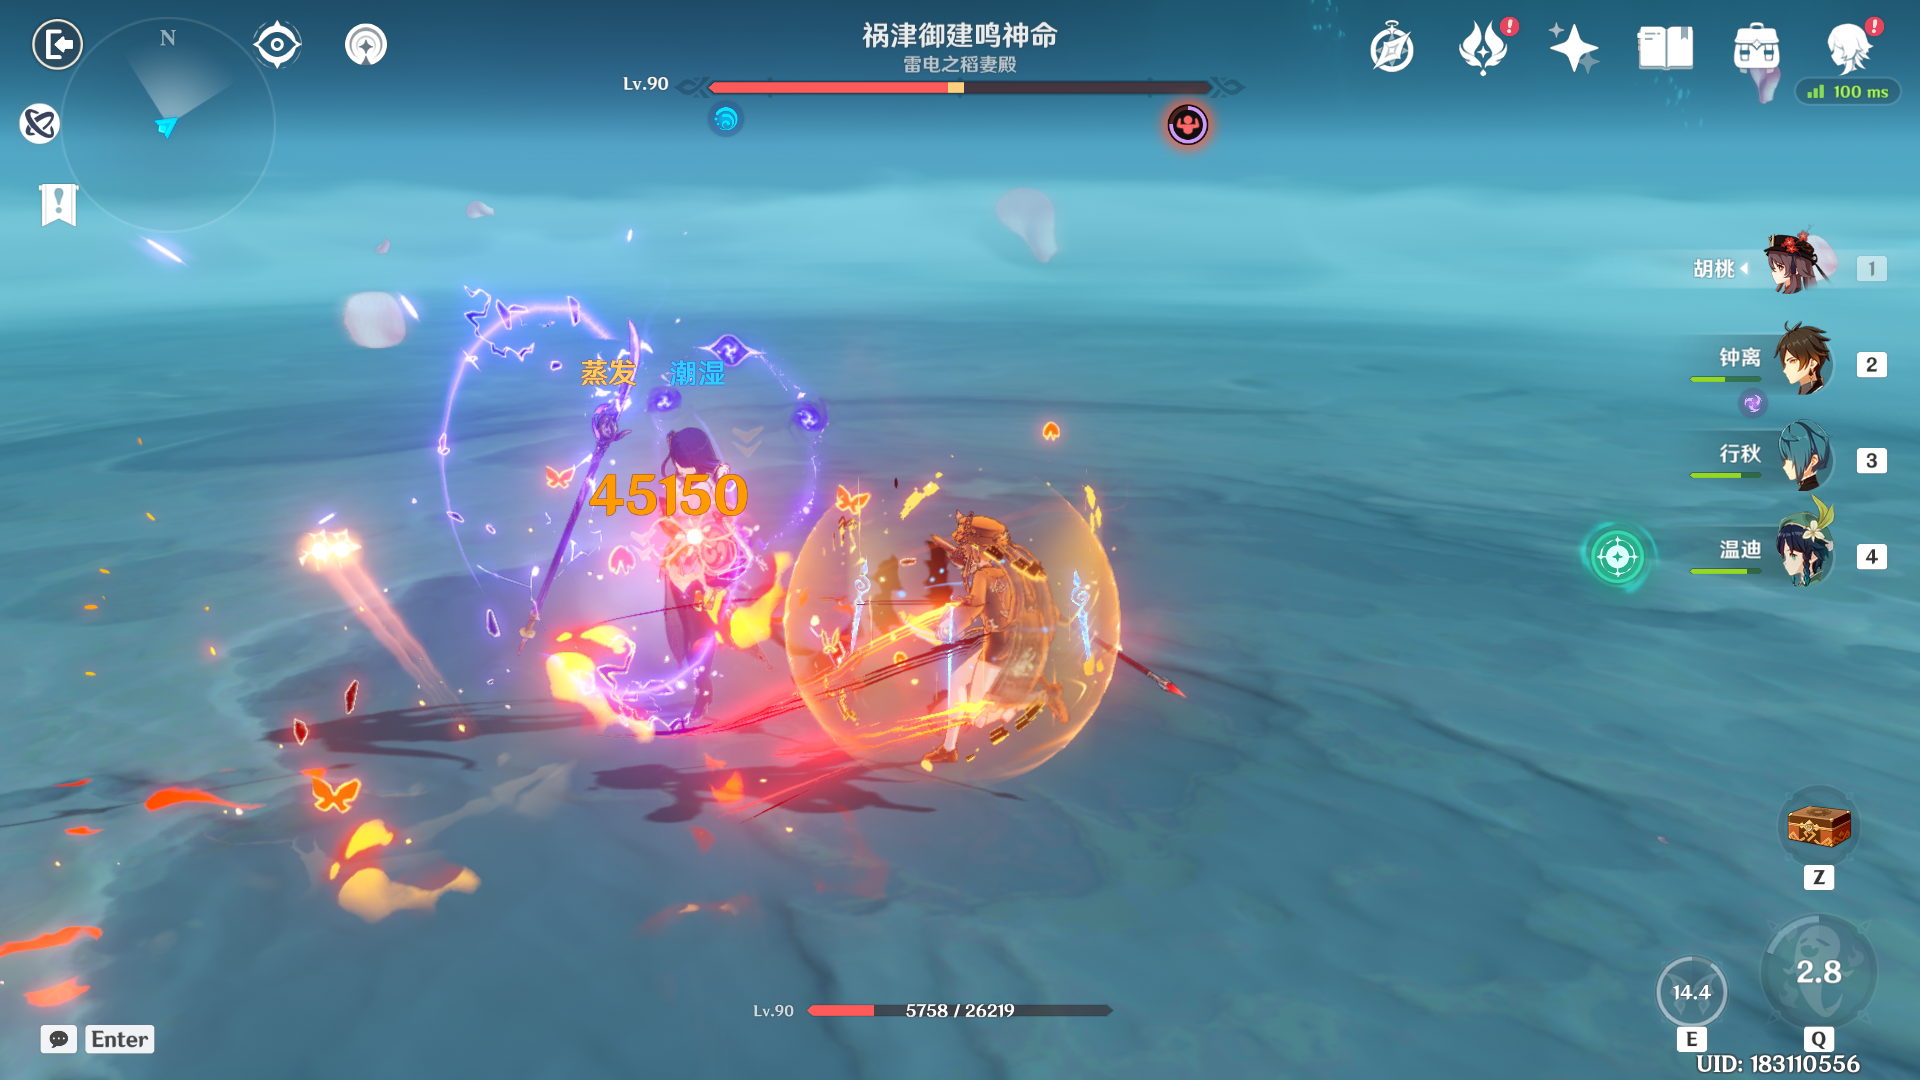character: (563, 369, 787, 795), (851, 473, 1101, 816)
